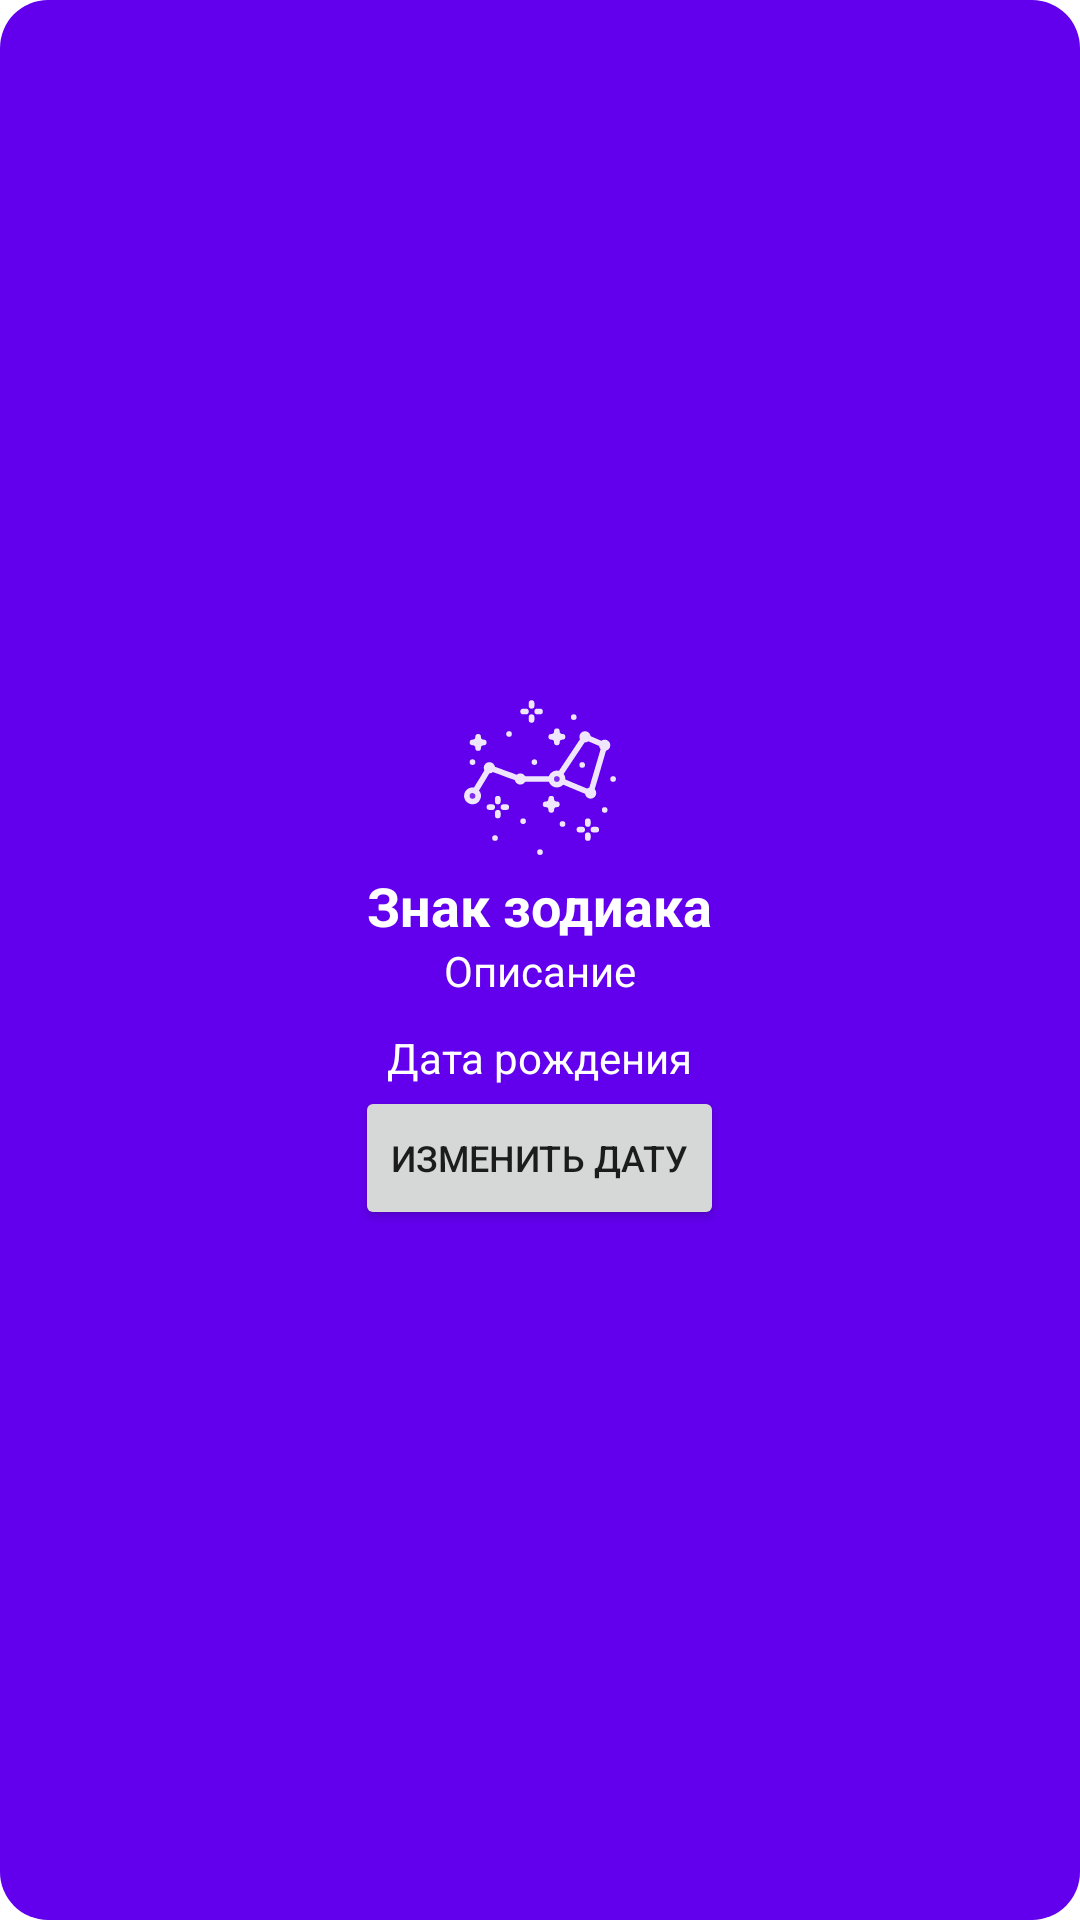

Screen size 1080x1920. Icon name, then its box in pixels as {"x1": x1, "y1": y1, "x2": x2, "y2": y2}:
constellation: {"x1": 464, "y1": 700, "x2": 616, "y2": 855}
